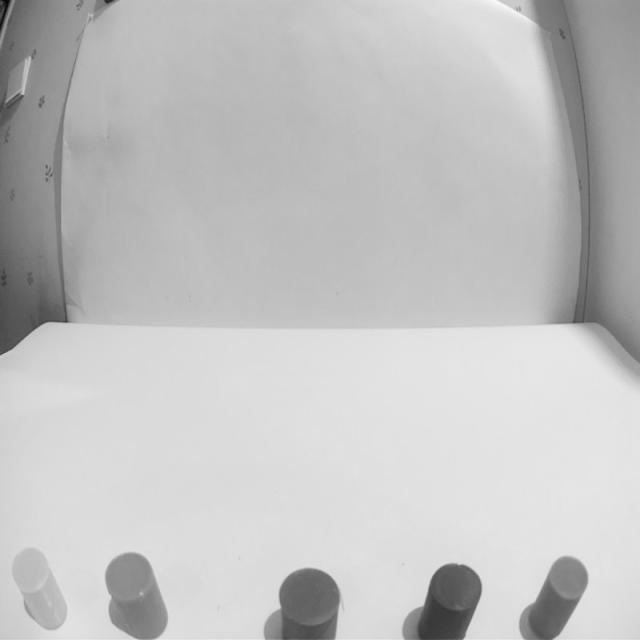cylinder: (105, 553, 168, 639), (528, 556, 590, 639), (418, 563, 483, 639), (10, 547, 68, 631), (279, 568, 340, 640)
